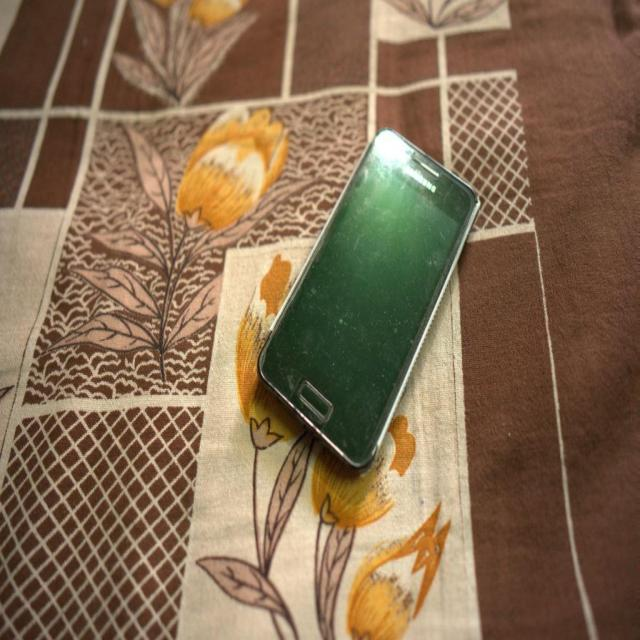Phone: (256, 123, 482, 470)
